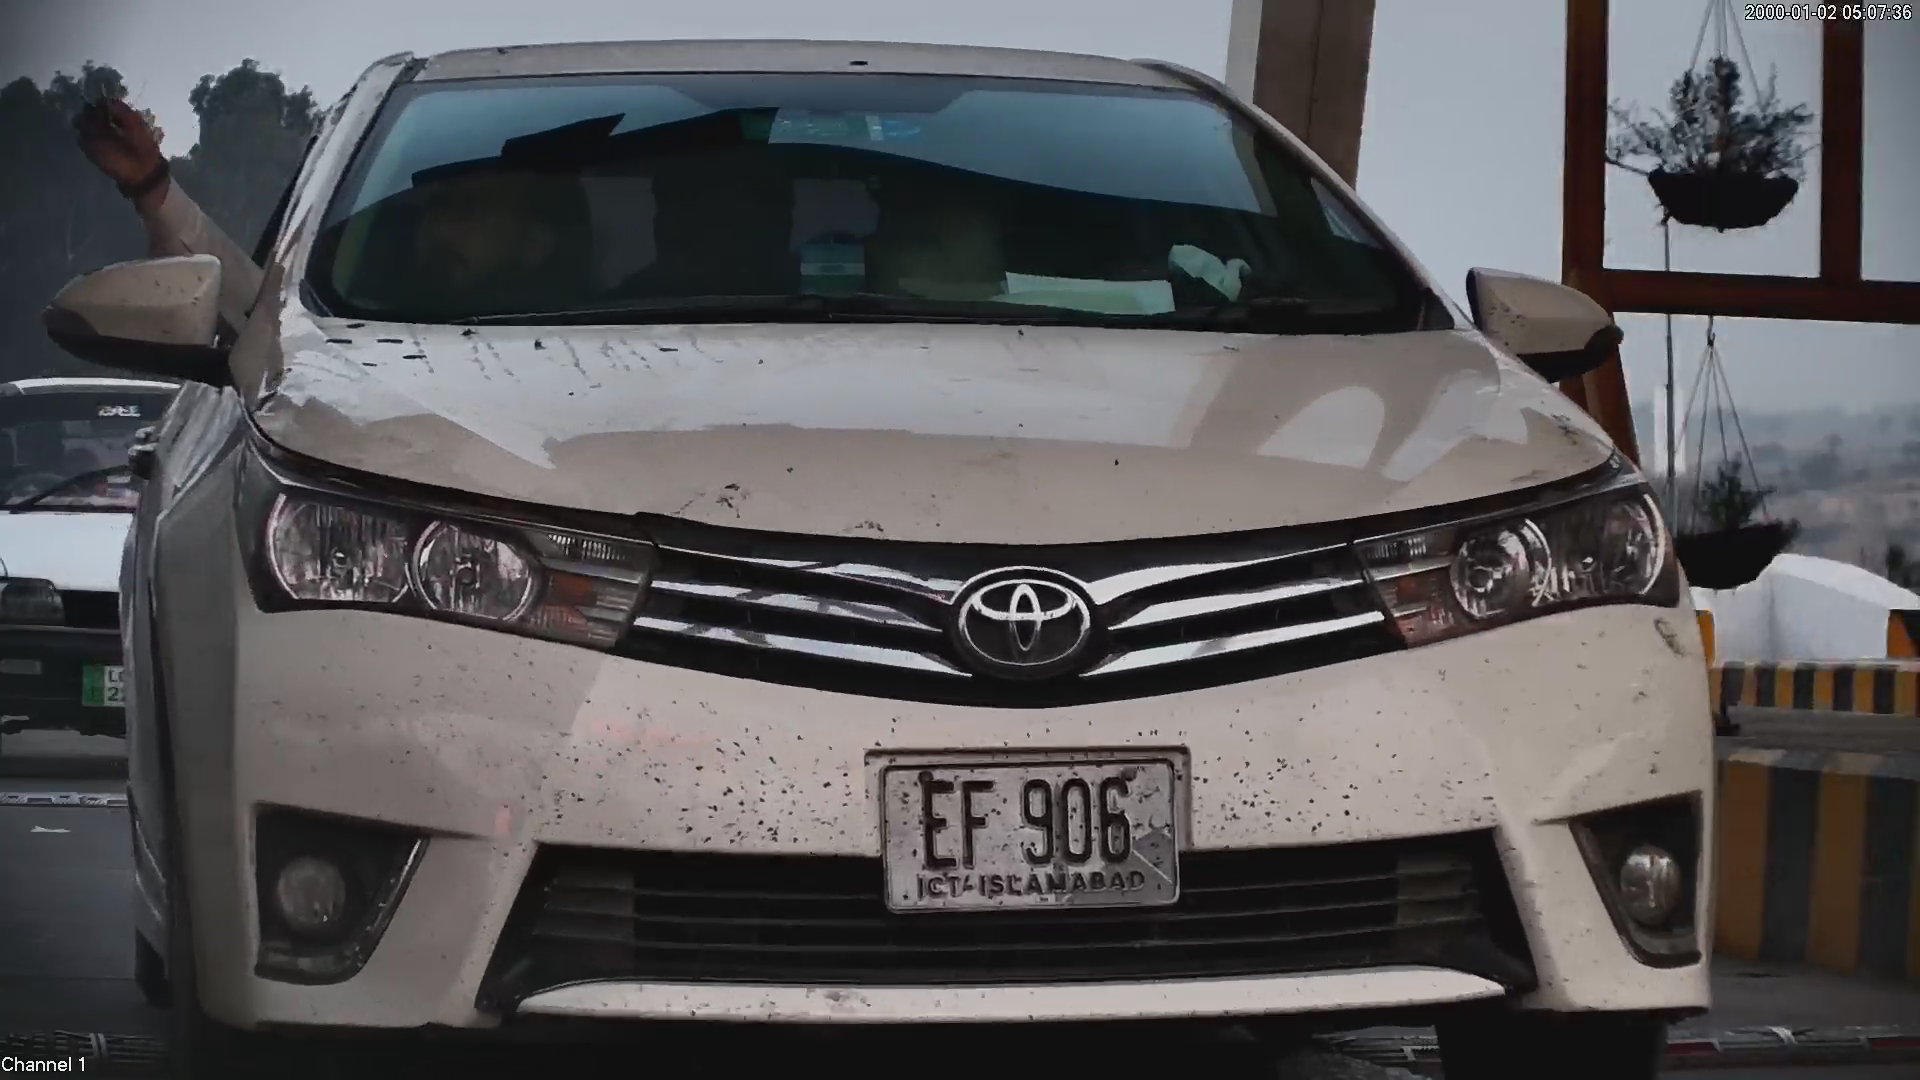Number_Plate: (868, 744, 1196, 925)
